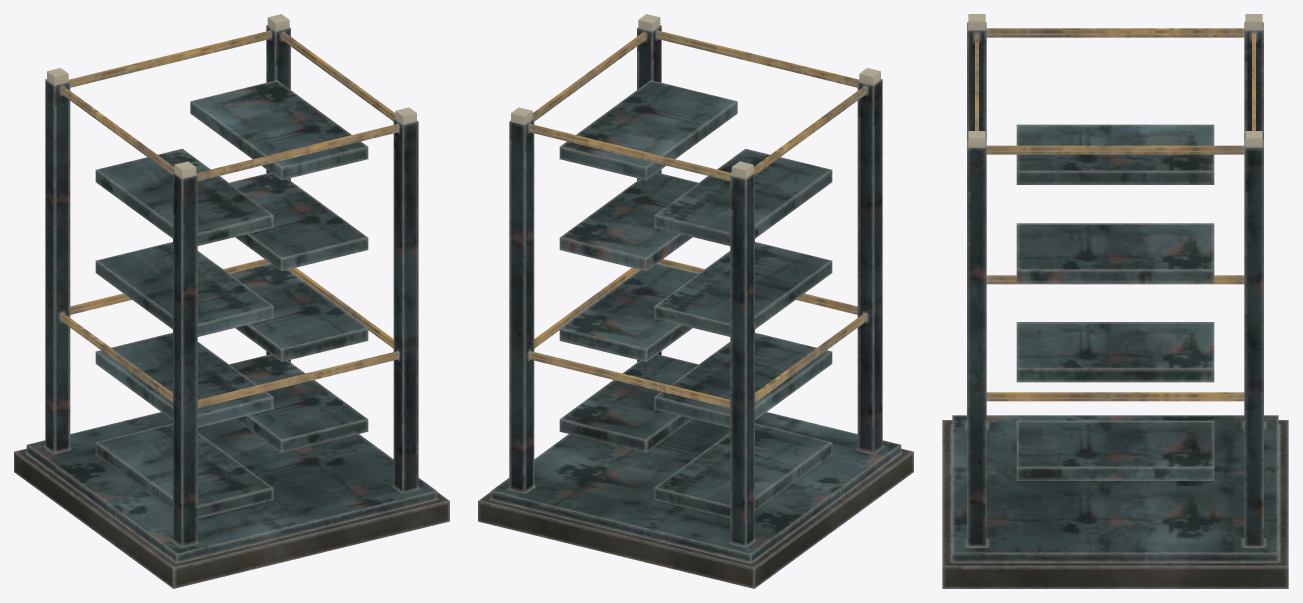
File: staircase.glb
3 renders of one model, left to right at view 1: azimuth 30°, elevation 25°; view 2: azimuth 150°, elevation 25°; view 3: azimuth 270°, elevation 25°, orthographic. The views are drawn at different scales.
Parts seen in each view (by area): view 1: te_staircase; view 2: te_staircase; view 3: te_staircase.
Boxes of the visible parts, box(x1,y1,x2,y2) form: te_staircase: box(14, 14, 449, 588); te_staircase: box(478, 14, 913, 588); te_staircase: box(942, 14, 1288, 588).
Size of the model in its own units: 0.7 by 0.98 by 0.7.
1 material, 1 textured.
